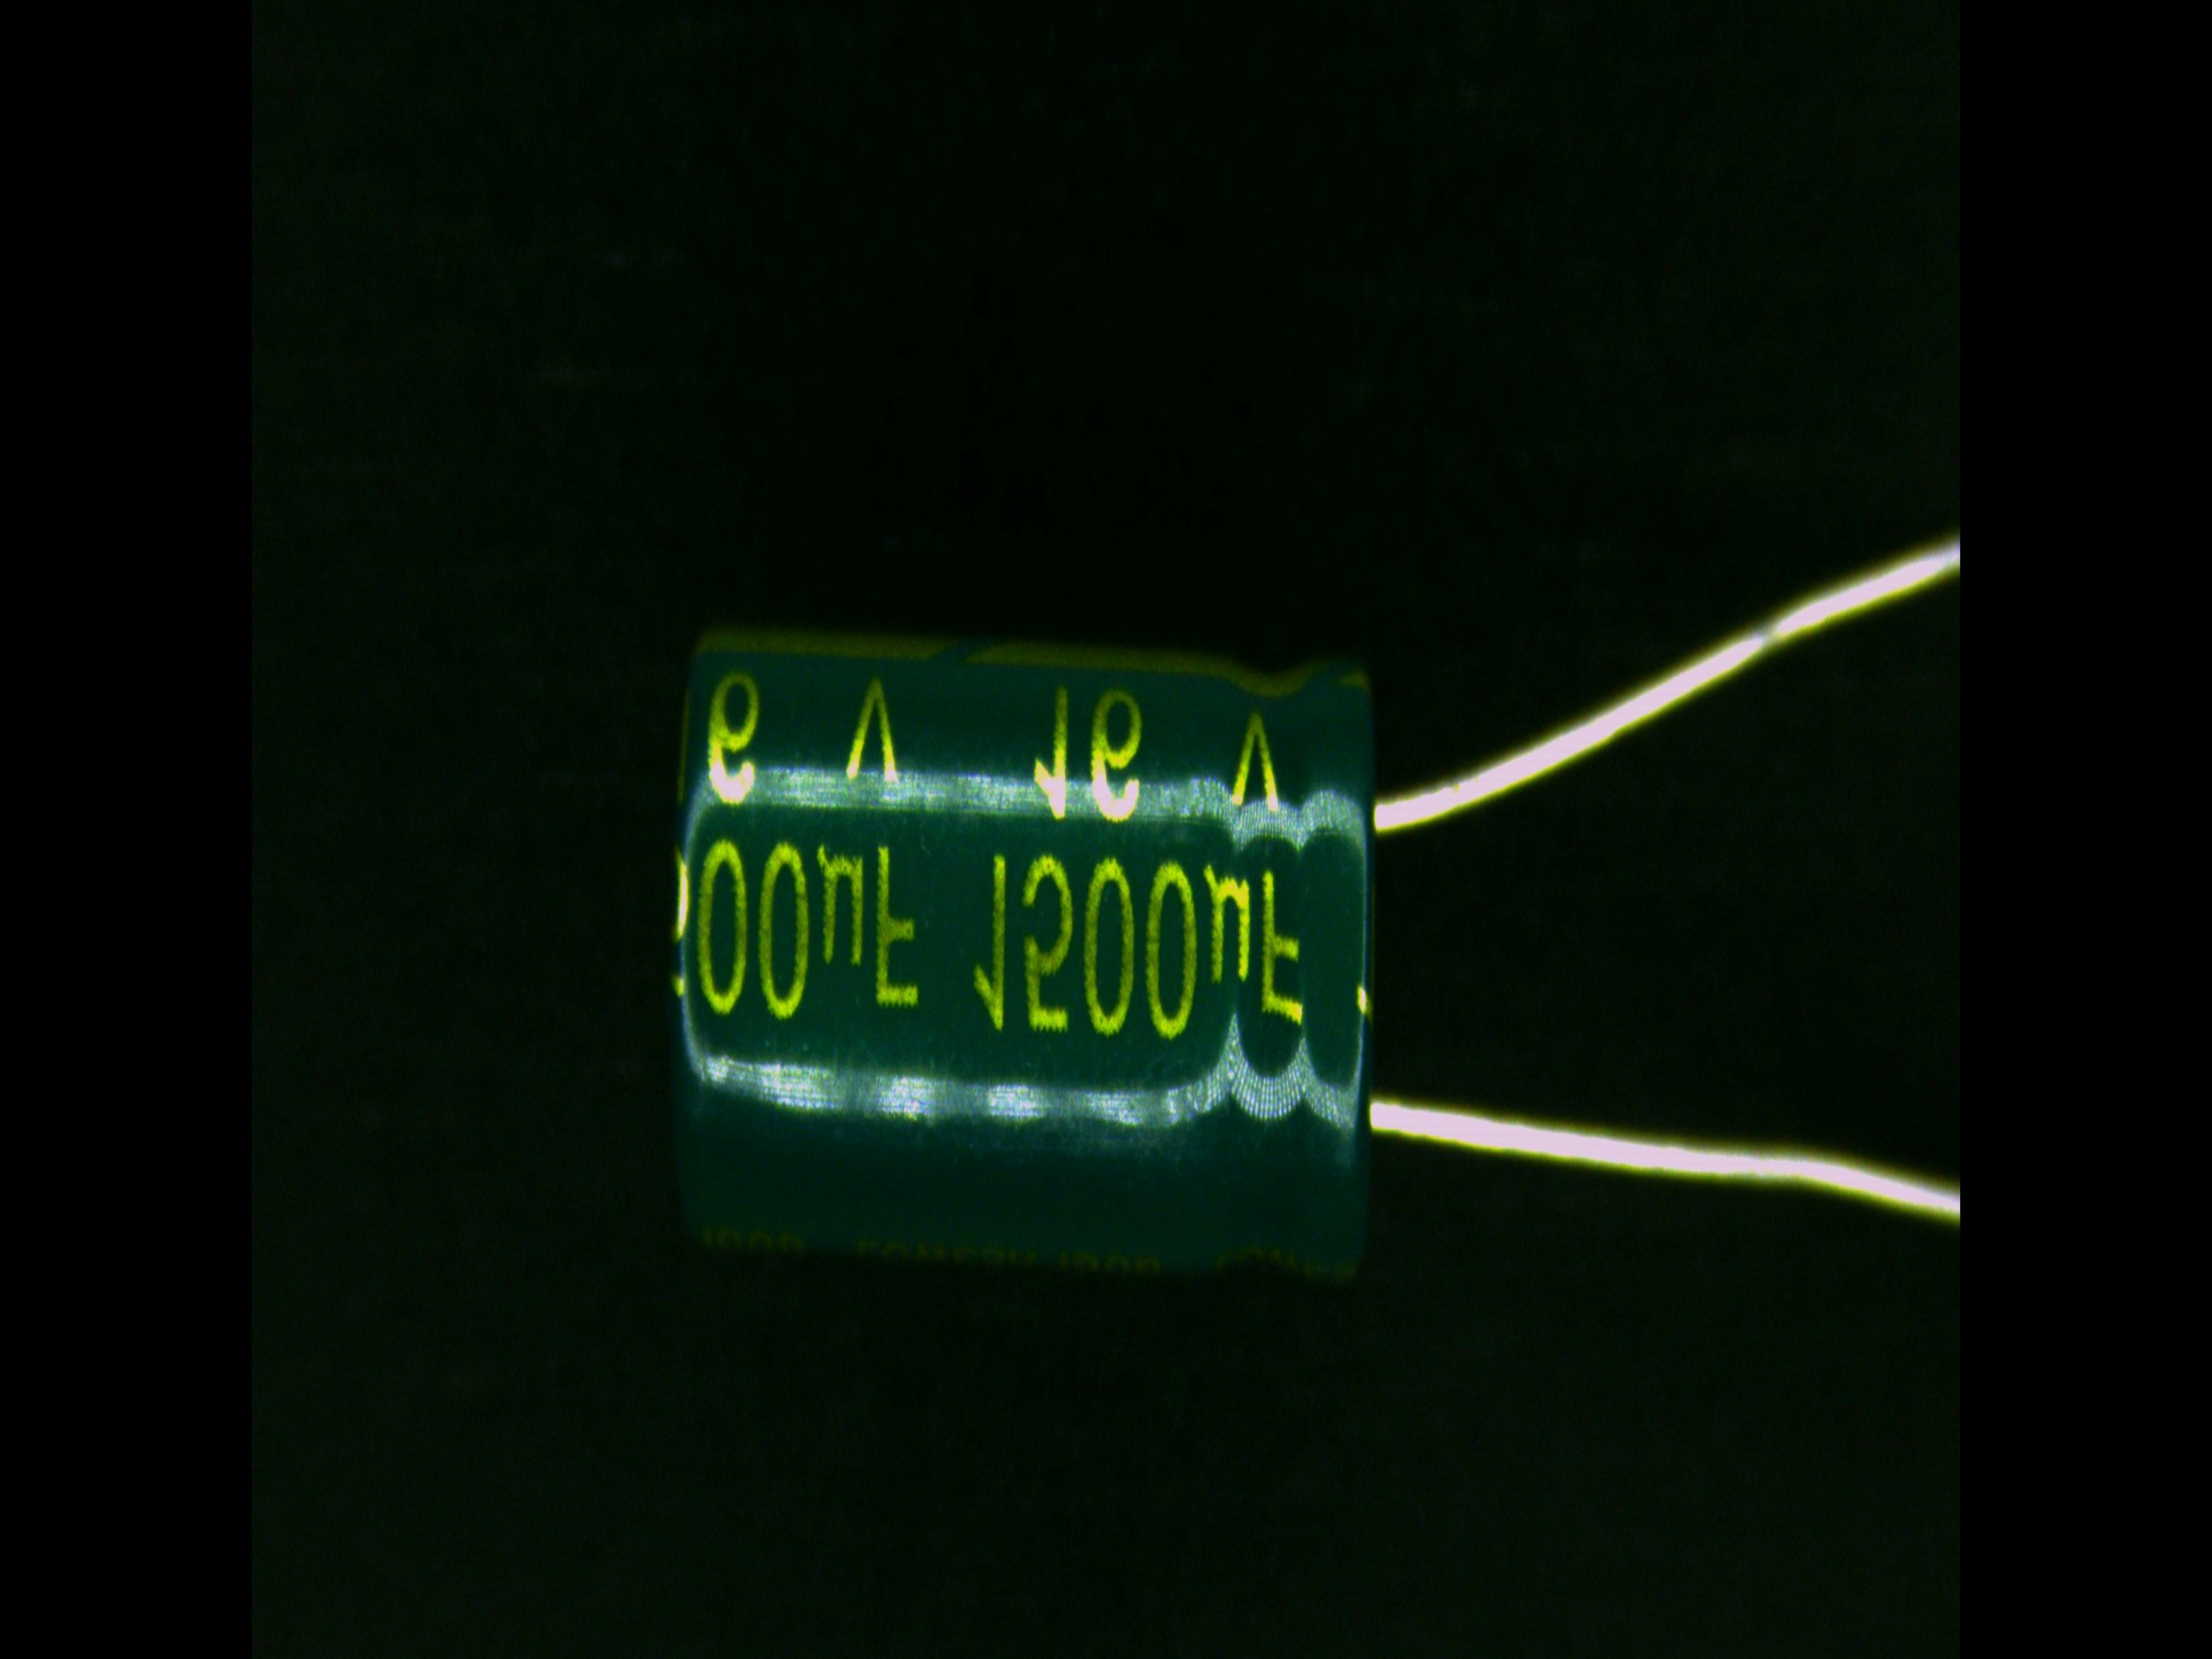c1: (665, 634, 1527, 1277)
